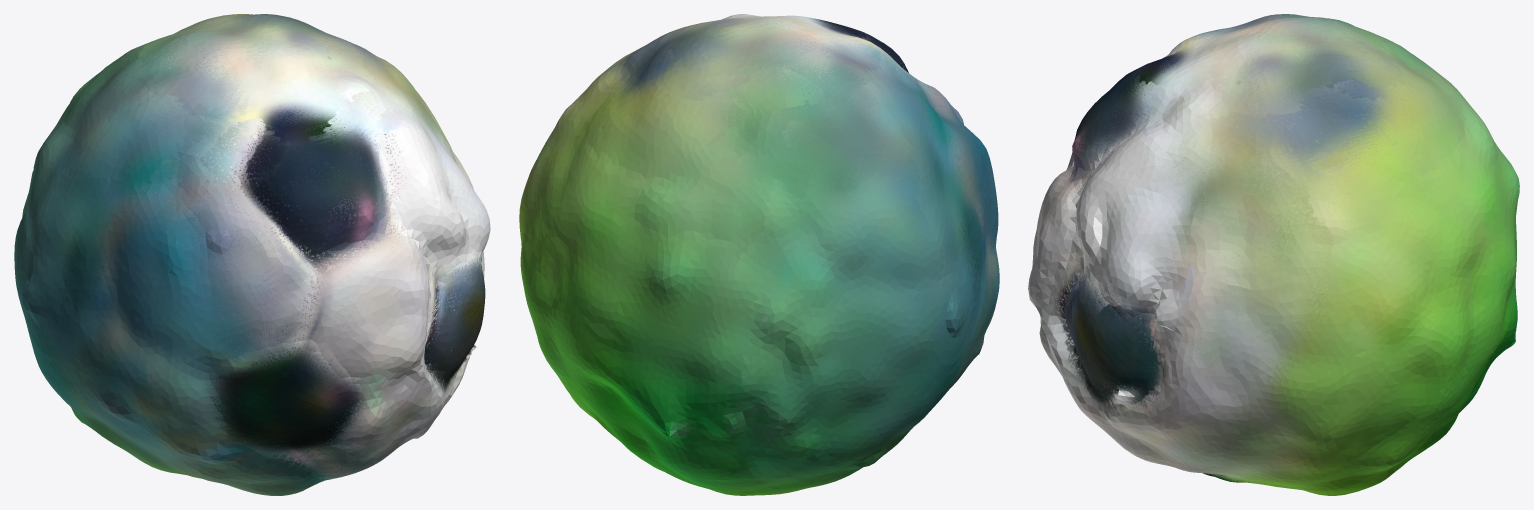
The model's file is fadsfsadg_mesh.glb.
The picture shows the model from 3 angles, left to right: view 1: azimuth 30°, elevation 25°; view 2: azimuth 150°, elevation 25°; view 3: azimuth 270°, elevation 25°; orthographic projection.
Size of the model in its own units: 0.7856 by 0.7814 by 0.7965.
1 material, 1 textured.
